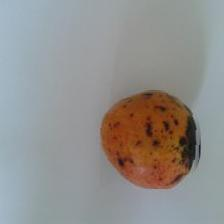Mango Semirotten: (101, 90, 204, 189)
